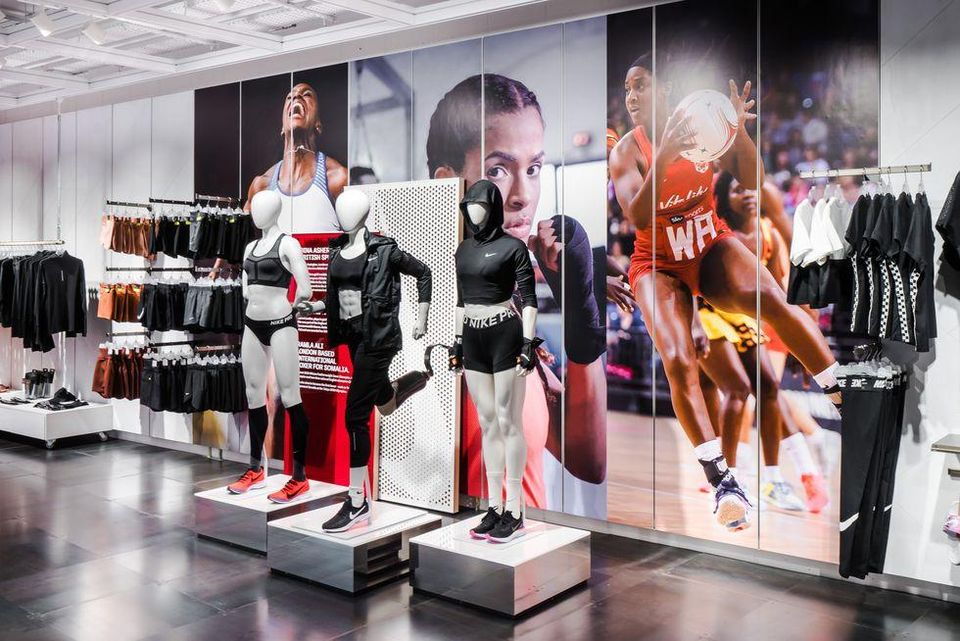person-like: (297, 186, 437, 534), (450, 173, 546, 547), (222, 186, 315, 507)
